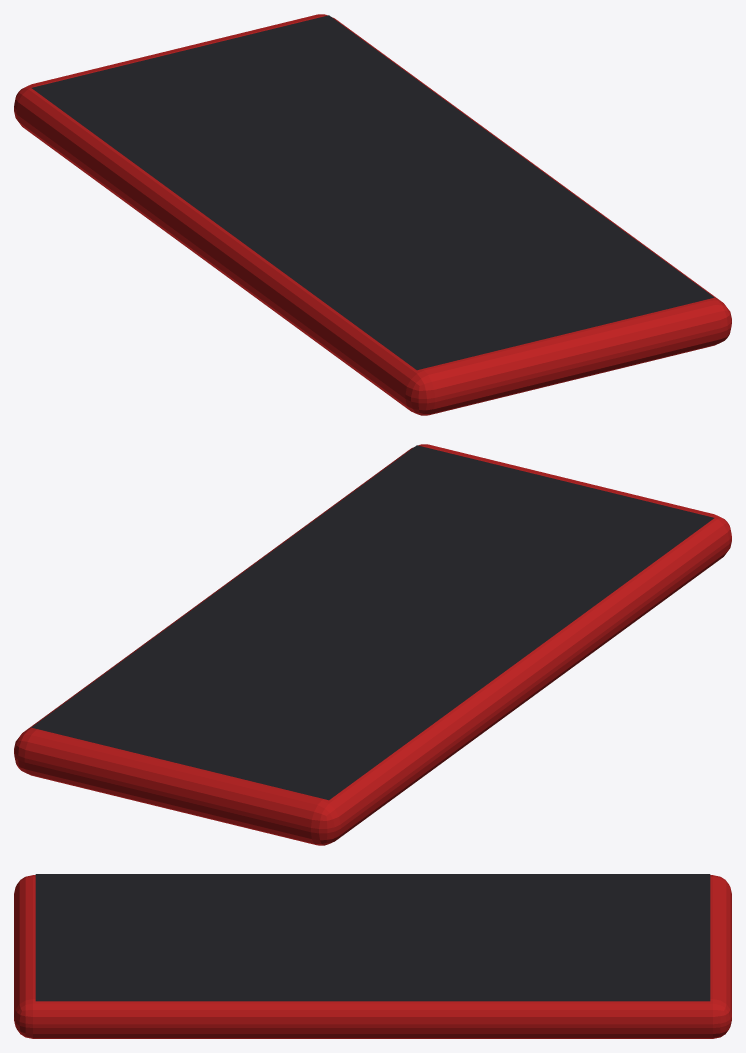
File: realme-gen-2024-mid-range-2024.glb
3 views of the same model, one above another, from view 1: azimuth 30°, elevation 25°; view 2: azimuth 150°, elevation 25°; view 3: azimuth 270°, elevation 25° (orthographic). The views are drawn at different scales.
Parts seen in each view (by area): view 1: Phone_Screen, Phone_Body; view 2: Phone_Screen, Phone_Body; view 3: Phone_Screen, Phone_Body.
Boxes of the visible parts, <box> form: Phone_Screen: <box>31,15,714,370</box>; Phone_Body: <box>14,14,731,415</box>; Phone_Screen: <box>31,445,714,800</box>; Phone_Body: <box>14,444,731,845</box>; Phone_Screen: <box>35,874,710,1001</box>; Phone_Body: <box>14,875,731,1038</box>.
Bounding box in the file's own units: 0.0717 × 0.0093 × 0.1574.
